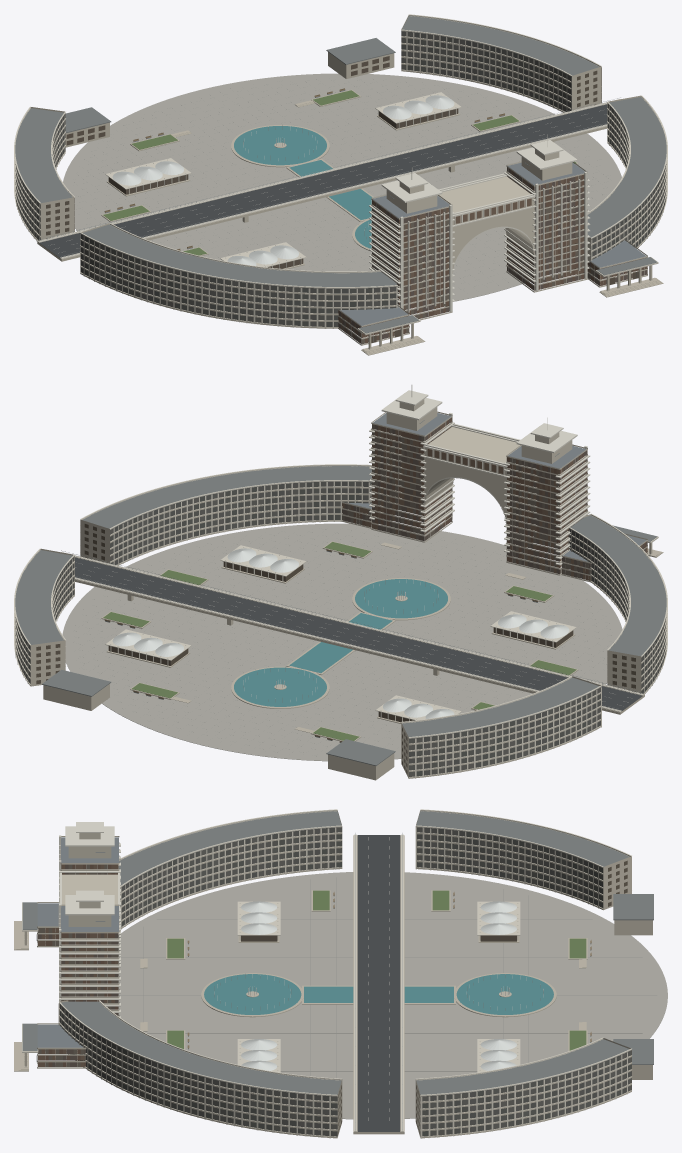
Rendered from arch-r3.glb.
3 views of the same model, one above another, from view 1: azimuth 30°, elevation 25°; view 2: azimuth 150°, elevation 25°; view 3: azimuth 270°, elevation 25° (orthographic). The views are drawn at different scales.
Visible parts, largest first — view 1: Court paving, Court roof, Court cornice, Court limestone, Portal Arch frame, Court asphalt, Portal Arch stone, Court window3, Court window0, Court window2, Court window1, Court water (+9 smaller); view 2: Court paving, Court limestone, Court roof, Court cornice, Portal Arch stone, Court asphalt, Portal Arch frame, Court water, Court window3, Court window0, Court window1, Court window2 (+9 smaller); view 3: Court paving, Court cornice, Court limestone, Court roof, Court asphalt, Court water, Court window3, Court window0, Court window2, Court window1, Portal Arch frame, Portal Arch stone (+10 smaller).
Boxes of the visible parts, x1=… form: Court paving: x1=63, y1=73, x2=621, y2=306; Court roof: x1=15, y1=16, x2=666, y2=333; Court cornice: x1=14, y1=14, x2=667, y2=349; Court limestone: x1=14, y1=15, x2=667, y2=355; Portal Arch frame: x1=343, y1=134, x2=647, y2=343; Court asphalt: x1=39, y1=104, x2=607, y2=257; Portal Arch stone: x1=338, y1=149, x2=647, y2=345; Court window3: x1=15, y1=31, x2=666, y2=326; Court window0: x1=15, y1=32, x2=666, y2=326; Court window2: x1=15, y1=31, x2=666, y2=326; Court window1: x1=15, y1=33, x2=666, y2=326; Court water: x1=234, y1=126, x2=372, y2=248; Court paving: x1=62, y1=523, x2=622, y2=761; Court limestone: x1=14, y1=466, x2=667, y2=780; Court roof: x1=15, y1=466, x2=666, y2=765; Court cornice: x1=14, y1=464, x2=667, y2=778; Portal Arch stone: x1=342, y1=399, x2=647, y2=582; Court asphalt: x1=75, y1=557, x2=642, y2=710; Portal Arch frame: x1=342, y1=385, x2=647, y2=580; Court water: x1=234, y1=579, x2=447, y2=706; Court window3: x1=15, y1=481, x2=666, y2=776; Court window0: x1=15, y1=481, x2=666, y2=776; Court window1: x1=16, y1=481, x2=666, y2=775; Court window2: x1=16, y1=481, x2=666, y2=774; Court paving: x1=119, y1=872, x2=667, y2=1119; Court cornice: x1=22, y1=809, x2=631, y2=1138; Court limestone: x1=14, y1=811, x2=652, y2=1138; Court roof: x1=22, y1=811, x2=653, y2=1094; Court asphalt: x1=357, y1=835, x2=400, y2=1131; Court water: x1=204, y1=974, x2=553, y2=1014; Court window3: x1=59, y1=827, x2=631, y2=1135; Court window0: x1=59, y1=827, x2=631, y2=1136; Court window2: x1=59, y1=827, x2=631, y2=1135; Court window1: x1=59, y1=828, x2=631, y2=1135; Portal Arch frame: x1=37, y1=822, x2=120, y2=1066; Portal Arch stone: x1=37, y1=833, x2=119, y2=1068.
Size of the model in its own units: 328 by 76.5 by 306.
